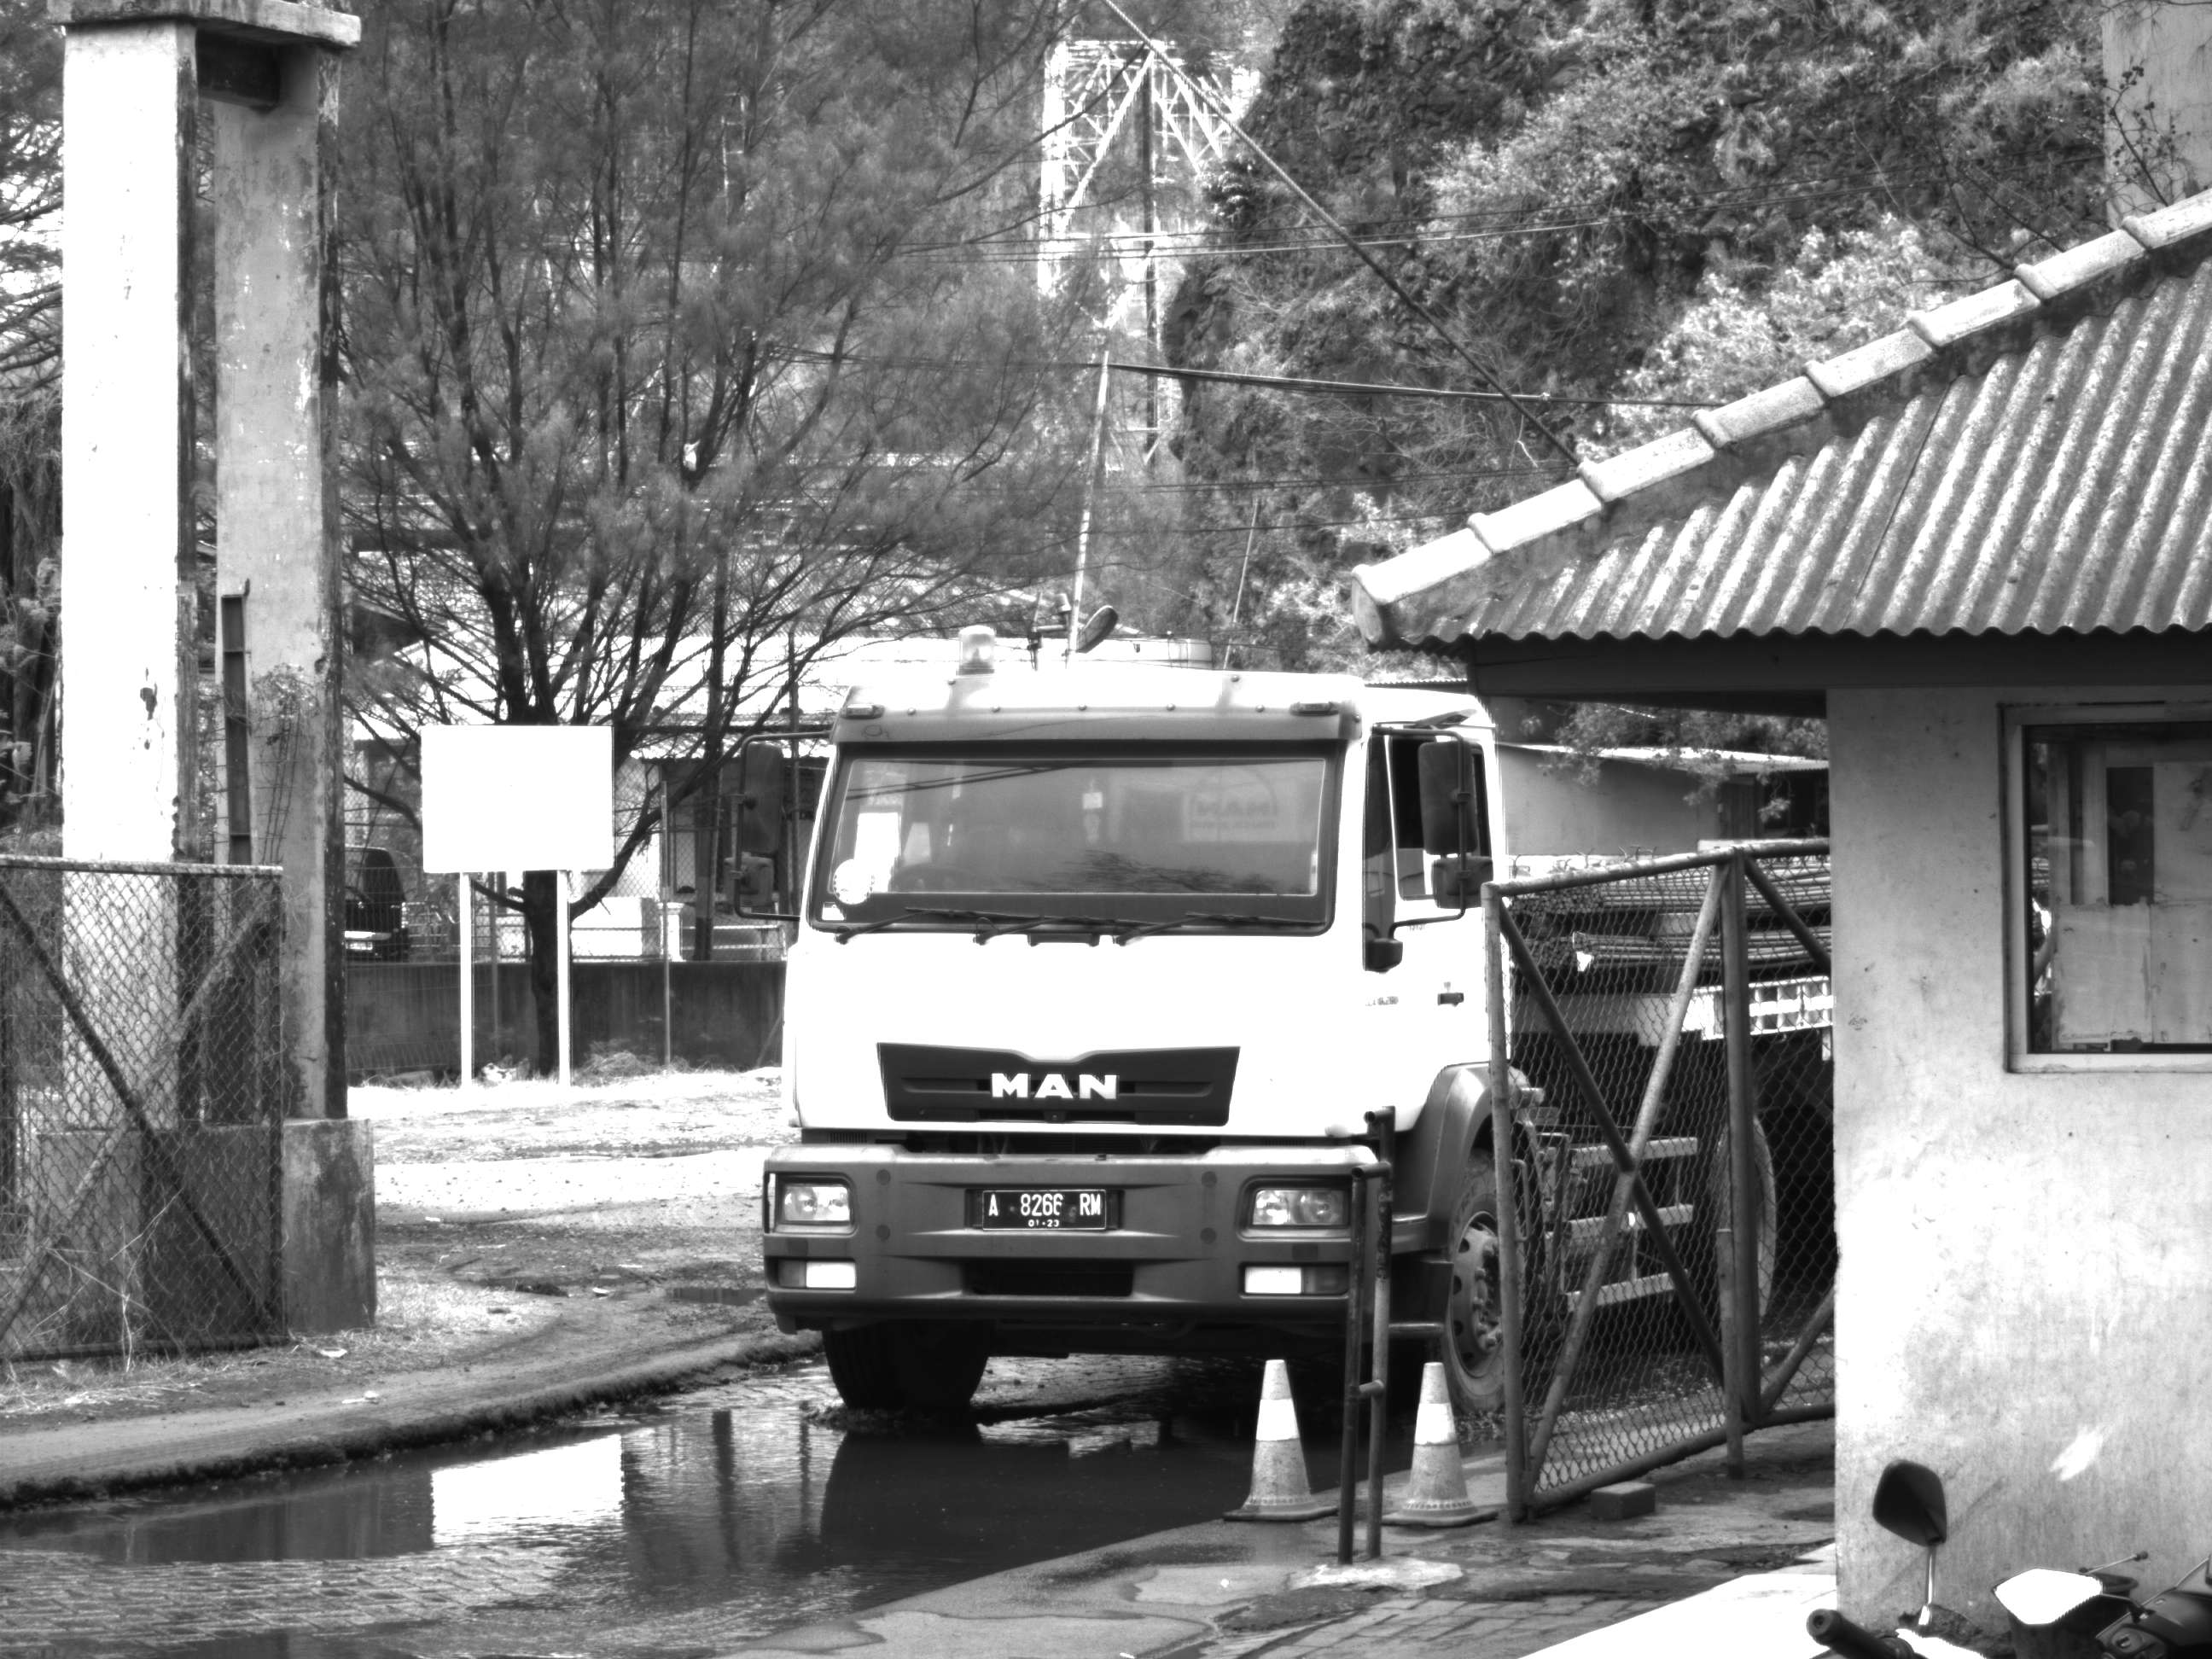day_truck_front: (756, 619, 1549, 1413)
plate: (981, 1186, 1106, 1234)
